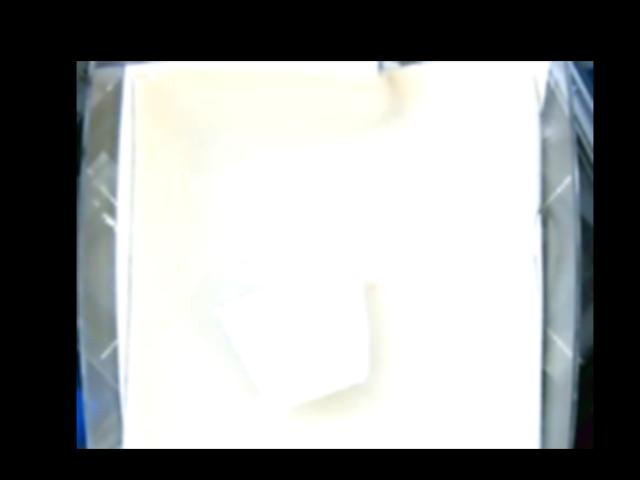Cup: (213, 258, 371, 406)
